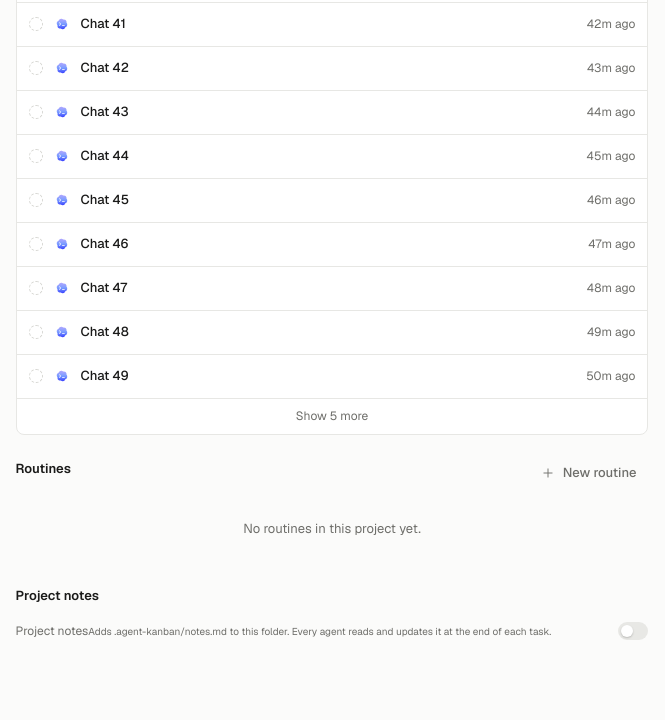
Test: Project detail › breadcrumb is a nav with the project as the current page; "Show N more" focuses the first revealed row
What coordinates should you click on to do the following:
click the button "Show 5 more"
I would click on:
 (332, 416)
Its box is [17, 398, 647, 434].
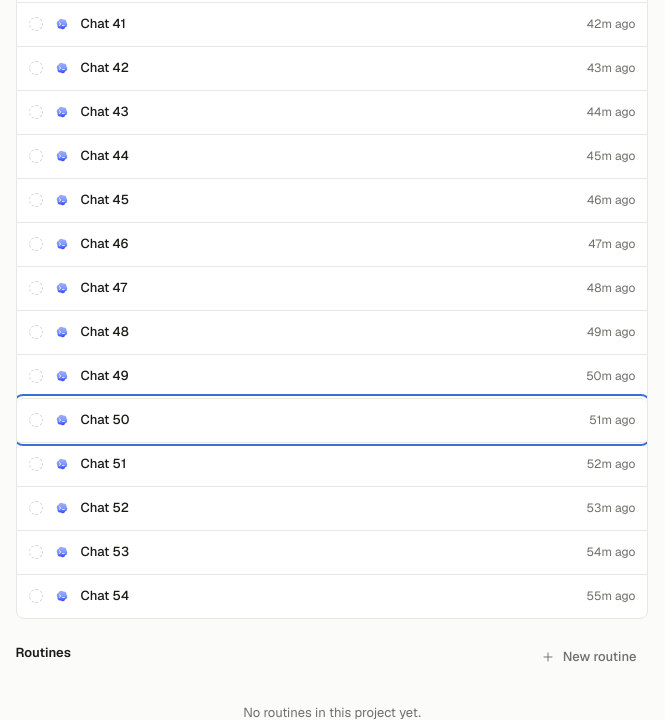
Expected: the button with class "crow" shows "Chat 50", [17, 398, 647, 442]
